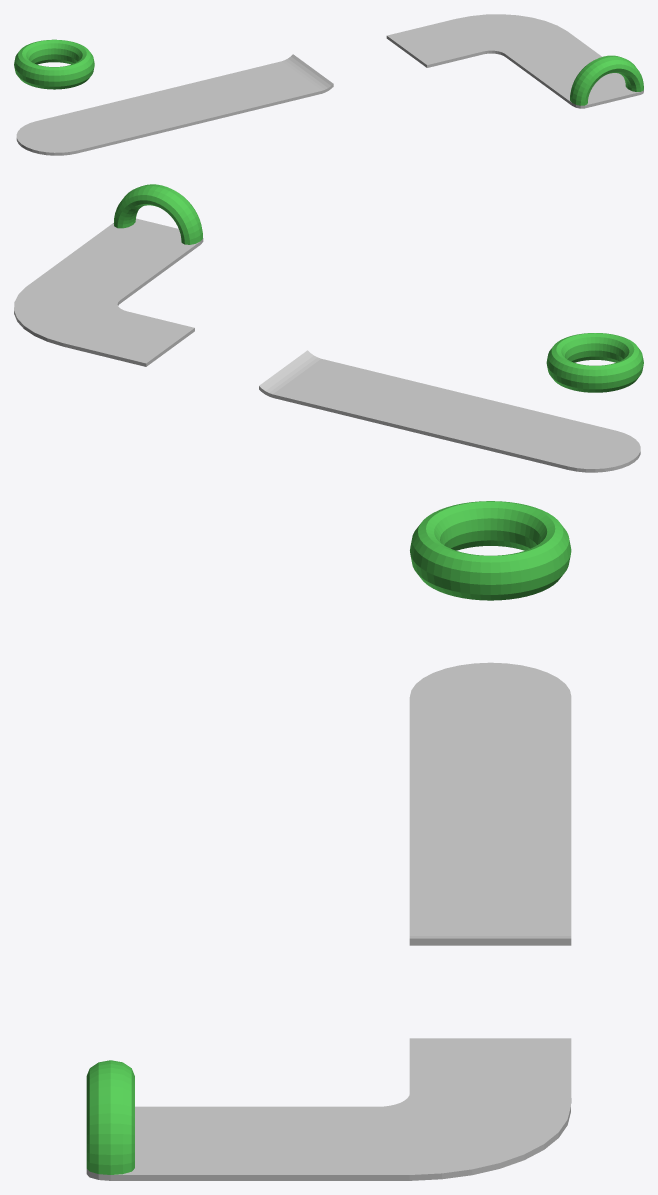
The model's file is stage1.glb.
The picture shows the model from 3 angles, top to bottom: view 1: azimuth 30°, elevation 25°; view 2: azimuth 150°, elevation 25°; view 3: azimuth 270°, elevation 25°; orthographic projection. The views are drawn at different scales.
Parts seen in each view (by area): view 1: Level; view 2: Level; view 3: Level.
Boxes of the visible parts, x1,y1,x2,y2 form: Level: (14, 14, 643, 155); Level: (14, 184, 643, 472); Level: (86, 501, 571, 1180).
Size of the model in its own units: 37.68 by 5.85 by 15.
